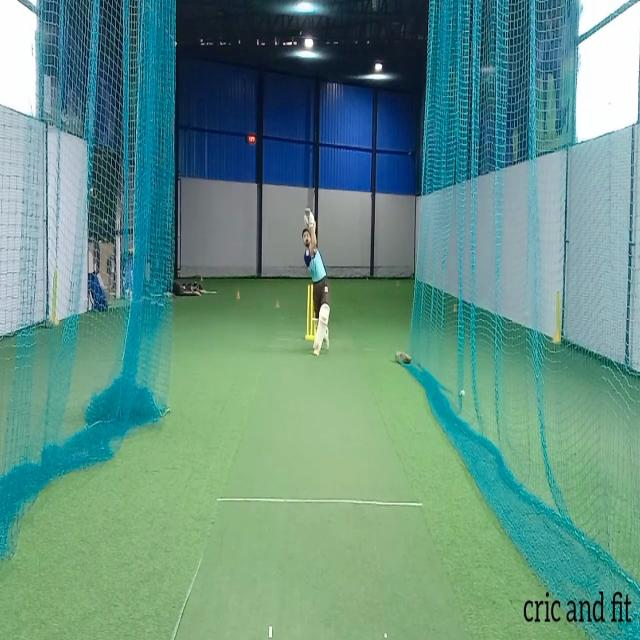batsman: (301, 207, 332, 358)
